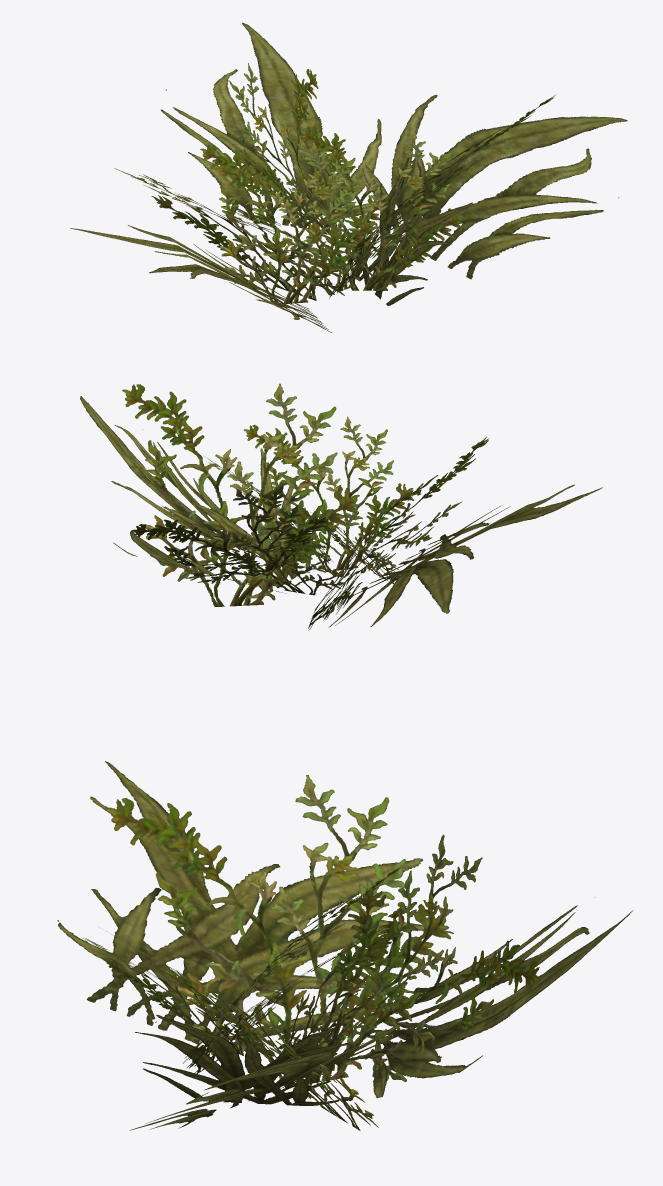
The model's file is SM_EN_2006_zhiwu05.FBX.
The picture shows the model from 3 angles, top to bottom: view 1: azimuth 30°, elevation 25°; view 2: azimuth 150°, elevation 25°; view 3: azimuth 270°, elevation 25°; orthographic projection. The views are drawn at different scales.
Parts seen in each view (by area): view 1: SM_EN_2006_zhiwu05; view 2: SM_EN_2006_zhiwu05; view 3: SM_EN_2006_zhiwu05.
Part boxes in pixels (x1,y1,x2,y2): SM_EN_2006_zhiwu05: (70, 22, 627, 332); SM_EN_2006_zhiwu05: (80, 383, 602, 630); SM_EN_2006_zhiwu05: (57, 761, 632, 1130).
Bounding box in the file's own units: 364 × 141 × 269.
